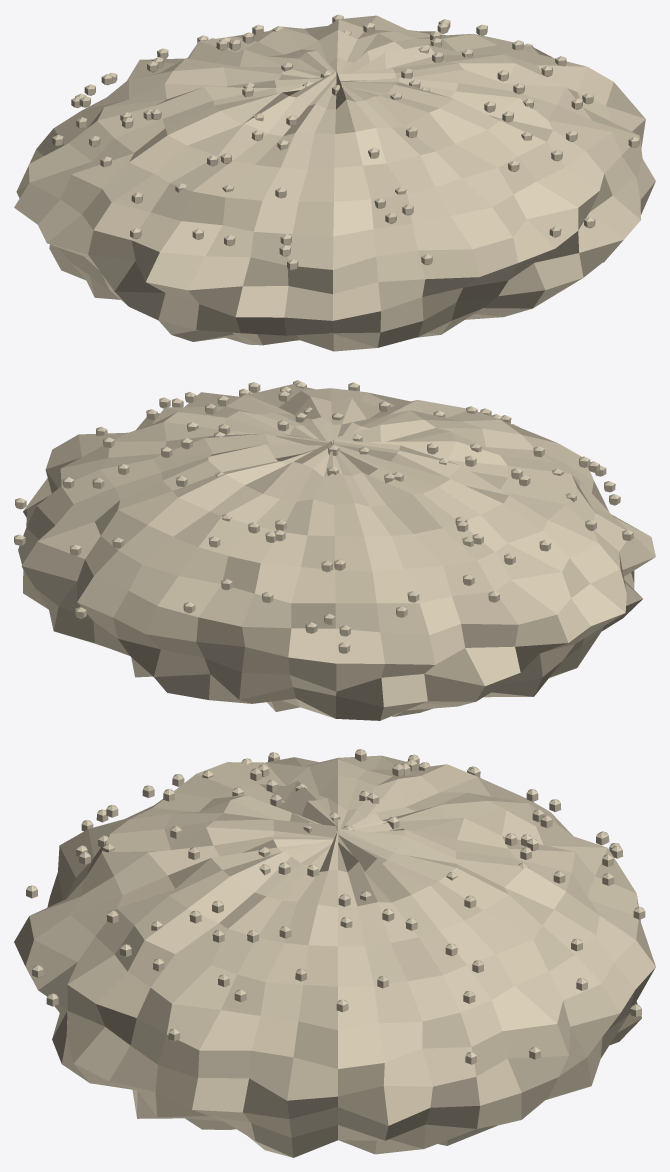
Rendered from WheatFlour.glb.
3 renders of one model, top to bottom at view 1: azimuth 30°, elevation 25°; view 2: azimuth 150°, elevation 25°; view 3: azimuth 270°, elevation 25°, orthographic. The views are drawn at different scales.
Parts seen in each view (by area): view 1: WheatFlour; view 2: WheatFlour; view 3: WheatFlour.
Boxes of the visible parts, x1,y1,x2,y2 form: WheatFlour: [14, 14, 655, 351]; WheatFlour: [14, 380, 655, 720]; WheatFlour: [14, 749, 655, 1157].
Size of what is drawn, in the model's own units: 0.0738 by 0.0278 by 0.0627.
